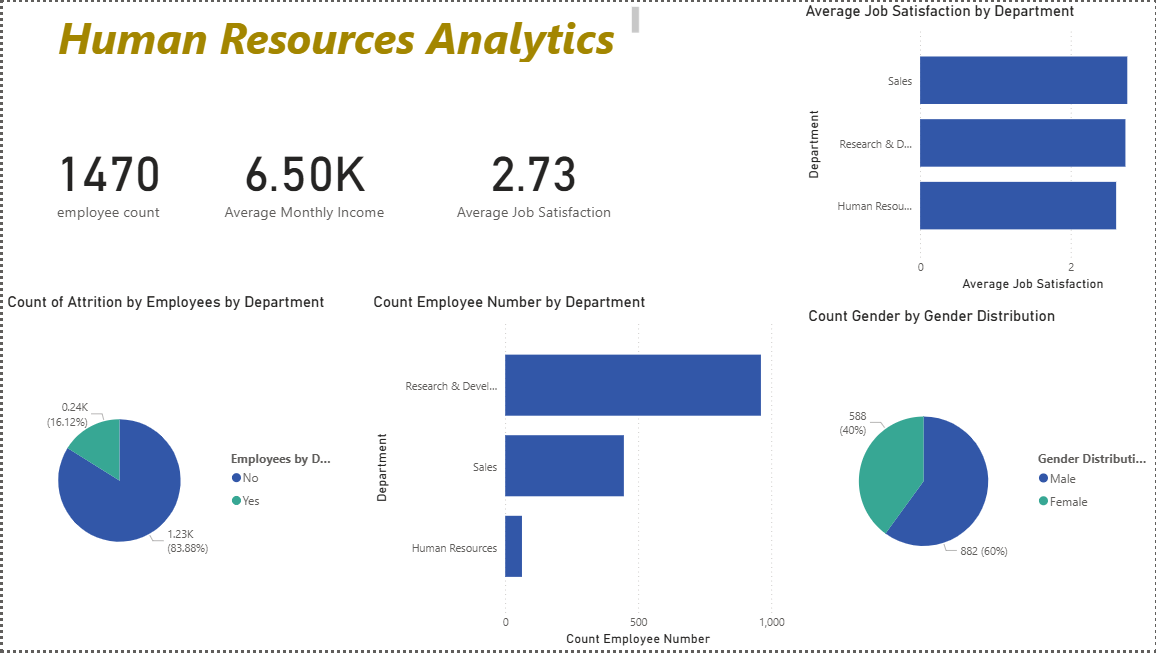

The dashboard page shown, as its layout file describes it:
{"tool":"powerbi","page":{"name":"Page 1","canvas":[1280,720],"ordinal":0},"visuals":[{"type":"card","fields":{"Values":["CountNonNull(WA_Fn-UseC_-HR-Employee-Attrition.EmployeeNumber)"]},"box":[0,43.5,279.7,279.7],"z":0},{"type":"card","fields":{"Values":["Avg(WA_Fn-UseC_-HR-Employee-Attrition.MonthlyIncome)"]},"box":[232.4,43.5,279.7,281.6],"z":1000},{"type":"card","fields":{"Values":["Avg(WA_Fn-UseC_-HR-Employee-Attrition.JobSatisfaction)"]},"box":[466.8,43.5,279.7,281.6],"z":2000},{"type":"pieChart","fields":{"Category":["WA_Fn-UseC_-HR-Employee-Attrition.Attrition"],"Y":["CountNonNull(WA_Fn-UseC_-HR-Employee-Attrition.Attrition)"]},"box":[0,323.2,355.3,364.7],"z":3000},{"type":"clusteredBarChart","fields":{"Category":["WA_Fn-UseC_-HR-Employee-Attrition.Department"],"Y":["CountNonNull(WA_Fn-UseC_-HR-Employee-Attrition.EmployeeNumber)"]},"box":[355.3,325,372.3,364.7],"z":4000},{"type":"pieChart","fields":{"Category":["WA_Fn-UseC_-HR-Employee-Attrition.Gender"],"Y":["CountNonNull(WA_Fn-UseC_-HR-Employee-Attrition.Gender)"]},"box":[710.6,325,391.2,366.6],"z":5000},{"type":"clusteredBarChart","fields":{"Category":["WA_Fn-UseC_-HR-Employee-Attrition.Department"],"Y":["Avg(WA_Fn-UseC_-HR-Employee-Attrition.JobSatisfaction)"]},"box":[888.2,45.4,391.2,279.7],"z":6000}]}

Visuals, with their boxes in screenshot pixels (x1, y1, x2, y2), scaled from the page's 1280x720 canvas onto the 1156x657 screenshot:
card - CountNonNull(WA_Fn-UseC_-HR-Employee-Attrition.EmployeeNumber): {"x1": 0, "y1": 40, "x2": 253, "y2": 295}
card - Avg(WA_Fn-UseC_-HR-Employee-Attrition.MonthlyIncome): {"x1": 210, "y1": 40, "x2": 462, "y2": 297}
card - Avg(WA_Fn-UseC_-HR-Employee-Attrition.JobSatisfaction): {"x1": 422, "y1": 40, "x2": 674, "y2": 297}
pieChart - WA_Fn-UseC_-HR-Employee-Attrition.Attrition x CountNonNull(WA_Fn-UseC_-HR-Employee-Attrition.Attrition): {"x1": 0, "y1": 295, "x2": 321, "y2": 628}
clusteredBarChart - WA_Fn-UseC_-HR-Employee-Attrition.Department x CountNonNull(WA_Fn-UseC_-HR-Employee-Attrition.EmployeeNumber): {"x1": 321, "y1": 297, "x2": 657, "y2": 629}
pieChart - WA_Fn-UseC_-HR-Employee-Attrition.Gender x CountNonNull(WA_Fn-UseC_-HR-Employee-Attrition.Gender): {"x1": 642, "y1": 297, "x2": 995, "y2": 631}
clusteredBarChart - WA_Fn-UseC_-HR-Employee-Attrition.Department x Avg(WA_Fn-UseC_-HR-Employee-Attrition.JobSatisfaction): {"x1": 802, "y1": 41, "x2": 1155, "y2": 297}
